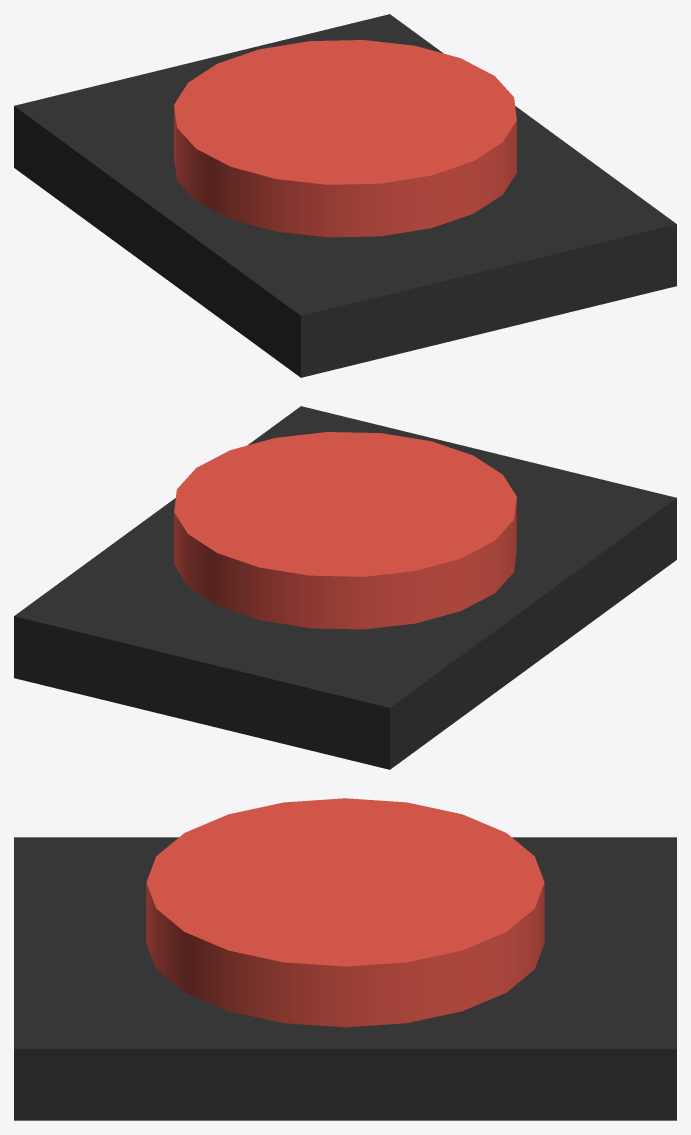
File: knapp.dae
The picture shows the model from 3 angles, top to bottom: view 1: azimuth 30°, elevation 25°; view 2: azimuth 150°, elevation 25°; view 3: azimuth 270°, elevation 25°; orthographic projection. The views are drawn at different scales.
Parts seen in each view (by area): view 1: pCube1, pCylinder1; view 2: pCube1, pCylinder1; view 3: pCube1, pCylinder1.
Boxes of the visible parts, box(x1,y1,x2,y2) form: pCube1: box(14, 14, 676, 377); pCylinder1: box(174, 40, 516, 237); pCube1: box(14, 406, 676, 769); pCylinder1: box(174, 432, 516, 629); pCube1: box(14, 837, 676, 1120); pCylinder1: box(146, 798, 544, 1027).
Size of the model in its own units: 1.04 by 0.3039 by 1.38.
